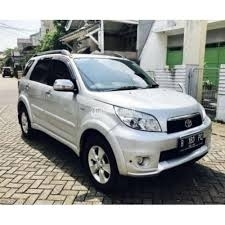plate: (180, 134, 203, 147)
